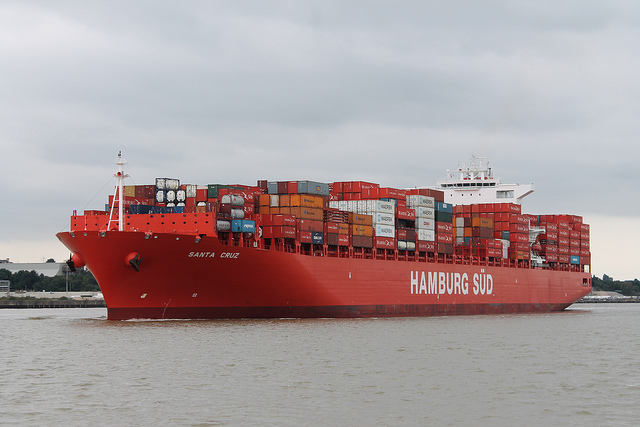container_ship: (58, 153, 592, 321)
